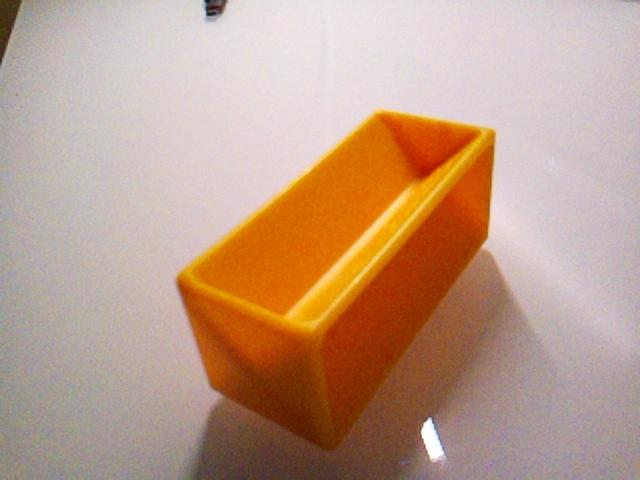yellow: (175, 107, 498, 452)
